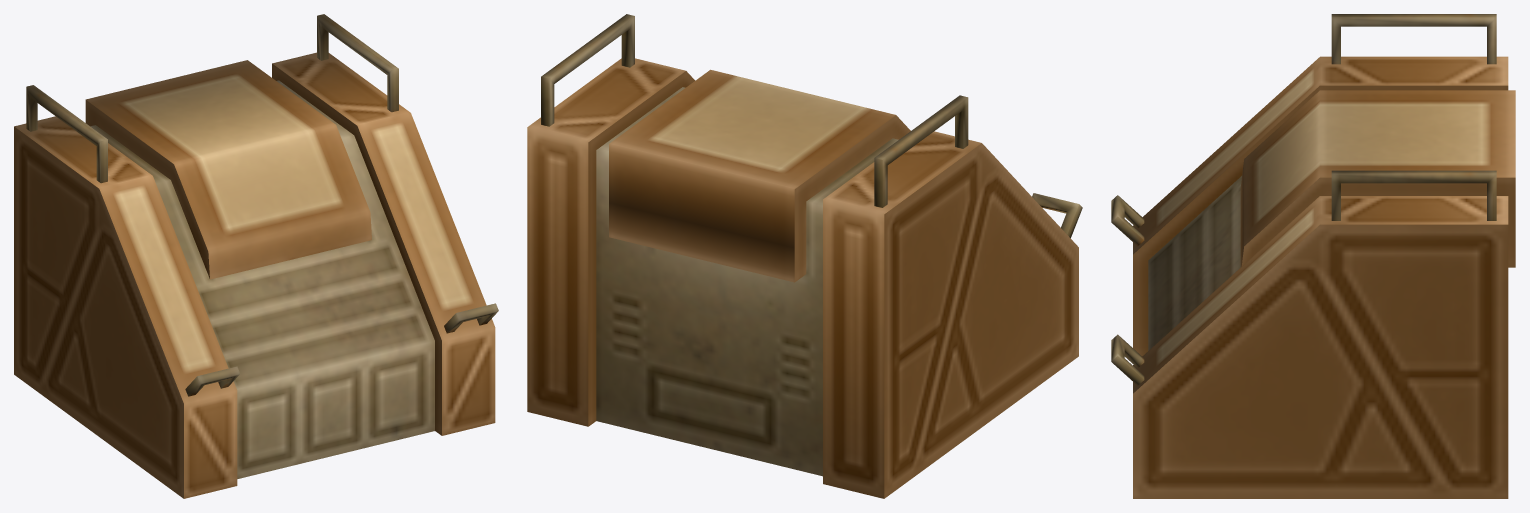
The model's file is Trash_Container.FBX.
The picture shows the model from 3 angles, left to right: view 1: azimuth 30°, elevation 25°; view 2: azimuth 150°, elevation 25°; view 3: azimuth 270°, elevation 25°; orthographic projection. The views are drawn at different scales.
Visible parts, largest first — view 1: Trash_Container; view 2: Trash_Container; view 3: Trash_Container.
Boxes of the visible parts, box(x1,y1,x2,y2) form: Trash_Container: box(14, 14, 498, 498); Trash_Container: box(527, 14, 1082, 498); Trash_Container: box(1111, 14, 1515, 498).
Size of the model in its own units: 384 by 341 by 390.
